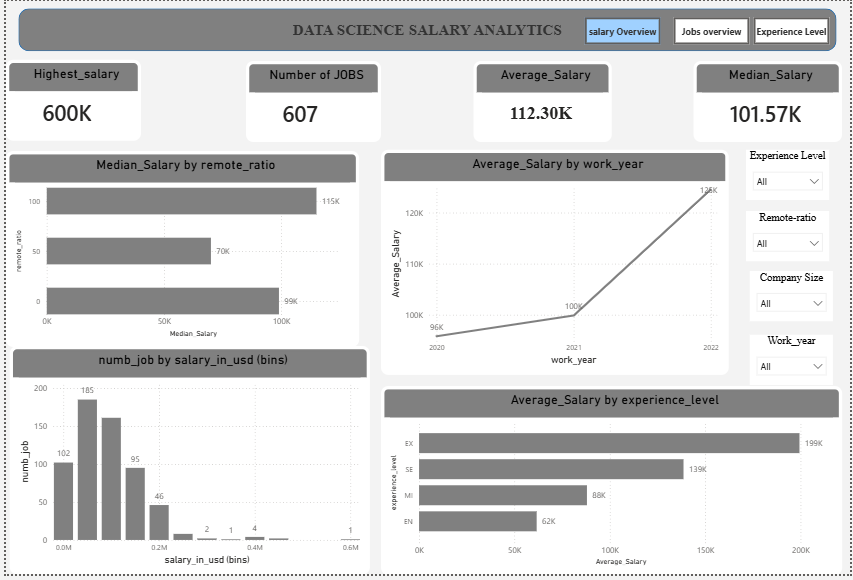

What the dashboard file says about the page in this screenshot:
{"tool":"powerbi","page":{"name":"Salary Overview","canvas":[1250,850],"ordinal":0},"visuals":[{"type":"cardVisual","title":"Average_Salary","fields":{"Data":["_measure.Average_Salary"]},"box":[693.3,88.3,205,120],"z":0},{"type":"cardVisual","title":"Median_Salary","fields":{"Data":["_measure.Median_Salary"]},"box":[1018.3,88.3,220,120],"z":1000},{"type":"cardVisual","title":"Highest_salary","fields":{"Data":["_measure.Highest_Salary"]},"box":[0,87.5,200,120],"z":2000},{"type":"cardVisual","title":"Number of JOBS","fields":{"Data":["_measure.numb_job"]},"box":[355,88.3,200,120],"z":3000},{"type":"lineChart","fields":{"Category":["Fact.work_year"],"Y":["_measure.Average_Salary"]},"box":[555,220,515,333.3],"z":4000},{"type":"slicer","title":"Work_year","fields":{"Values":["Fact.work_year"]},"box":[1101.7,495,123.5,74.6],"z":5000},{"type":"slicer","title":"Remote-ratio","fields":{"Values":["Company_Dim.remote_ratio"]},"box":[1096.7,311.7,123.5,74.6],"z":6000},{"type":"clusteredBarChart","fields":{"Category":["Employment_Dim.experience_level"],"Y":["_measure.Average_Salary"]},"box":[555,570,683.3,280],"z":7000},{"type":"shape","box":[18.3,11.7,1211.7,63.3],"z":8000},{"type":"actionButton","box":[988.3,23.3,112.5,40.4],"z":9000},{"type":"actionButton","box":[1106.7,23.3,112.5,40.4],"z":10000},{"type":"actionButton","box":[856.7,23.3,112.5,40.4],"z":11000},{"type":"clusteredBarChart","fields":{"Category":["Company_Dim.remote_ratio"],"Y":["_measure.Median_Salary"]},"box":[0,221.7,523.3,290],"z":12000},{"type":"clusteredColumnChart","fields":{"Category":["Fact.salary_in_usd (bins)"],"Y":["_measure.numb_job"]},"box":[5,511.7,533.3,338.3],"z":13000},{"type":"slicer","title":"Experience Level","fields":{"Values":["Employment_Dim.experience_level"]},"box":[1096.7,220,123.5,74.6],"z":14000},{"type":"slicer","title":"Company Size","fields":{"Values":["Company_Dim.company_size"]},"box":[1101.7,400,123.5,74.6],"z":15000}]}

Visuals, with their boxes in screenshot pixels (x1, y1, x2, y2), scaled from the page's 1250x850 canvas onto the 853x580 screenshot:
"Average_Salary" cardVisual: {"left": 473, "top": 60, "right": 613, "bottom": 142}
"Median_Salary" cardVisual: {"left": 695, "top": 60, "right": 845, "bottom": 142}
"Highest_salary" cardVisual: {"left": 0, "top": 60, "right": 136, "bottom": 142}
"Number of JOBS" cardVisual: {"left": 242, "top": 60, "right": 379, "bottom": 142}
lineChart - Fact.work_year x _measure.Average_Salary: {"left": 379, "top": 150, "right": 730, "bottom": 378}
"Work_year" slicer: {"left": 752, "top": 338, "right": 836, "bottom": 389}
"Remote-ratio" slicer: {"left": 748, "top": 213, "right": 833, "bottom": 264}
clusteredBarChart - Employment_Dim.experience_level x _measure.Average_Salary: {"left": 379, "top": 389, "right": 845, "bottom": 579}
shape: {"left": 12, "top": 8, "right": 839, "bottom": 51}
actionButton: {"left": 674, "top": 16, "right": 751, "bottom": 43}
actionButton: {"left": 755, "top": 16, "right": 832, "bottom": 43}
actionButton: {"left": 585, "top": 16, "right": 661, "bottom": 43}
clusteredBarChart - Company_Dim.remote_ratio x _measure.Median_Salary: {"left": 0, "top": 151, "right": 357, "bottom": 349}
clusteredColumnChart - Fact.salary_in_usd (bins) x _measure.numb_job: {"left": 3, "top": 349, "right": 367, "bottom": 579}
"Experience Level" slicer: {"left": 748, "top": 150, "right": 833, "bottom": 201}
"Company Size" slicer: {"left": 752, "top": 273, "right": 836, "bottom": 324}
